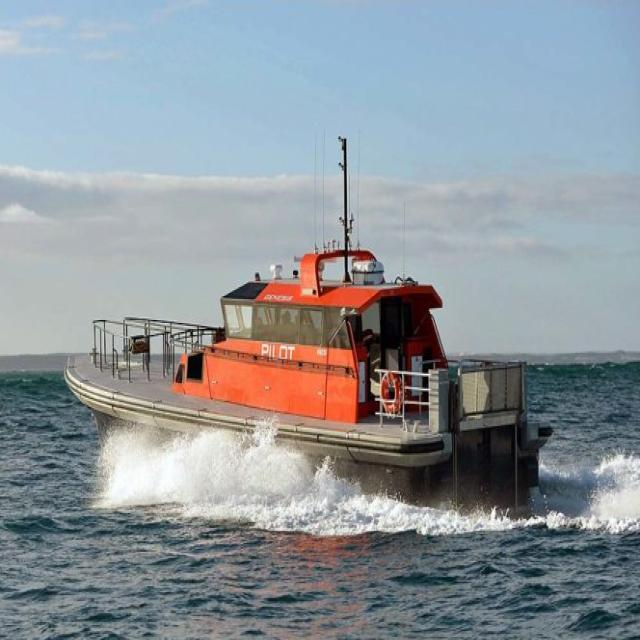houseboat: (61, 214, 536, 533)
